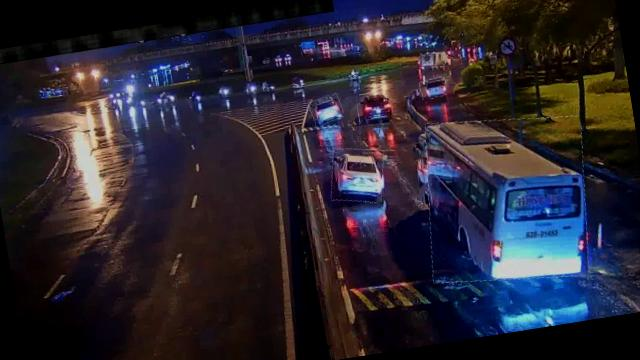Bus: (414, 104, 601, 294)
Car: (326, 143, 389, 207), (356, 90, 394, 124), (309, 93, 345, 125), (419, 76, 448, 100)
